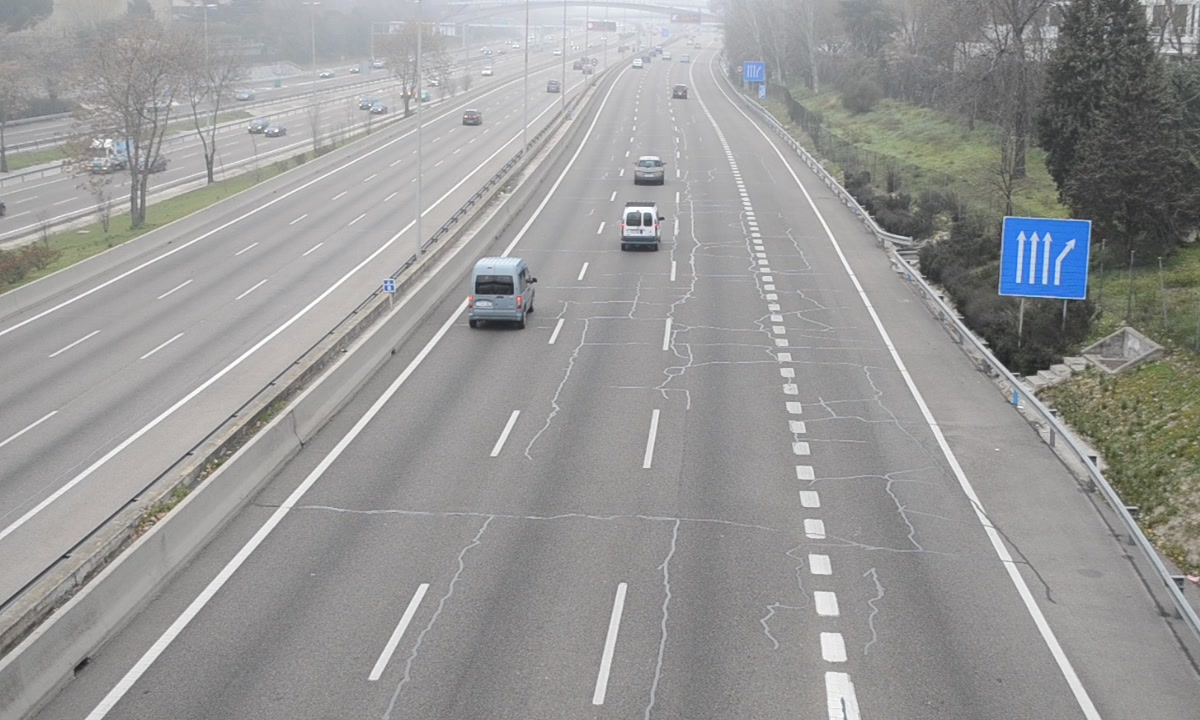car: (633, 156, 666, 186)
van: (465, 260, 534, 323), (620, 204, 659, 249)
